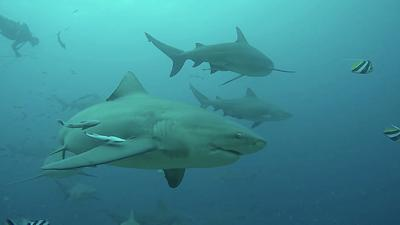Shark -Selachimorpha-: (38, 65, 274, 192), (142, 26, 283, 78), (184, 82, 297, 133)
